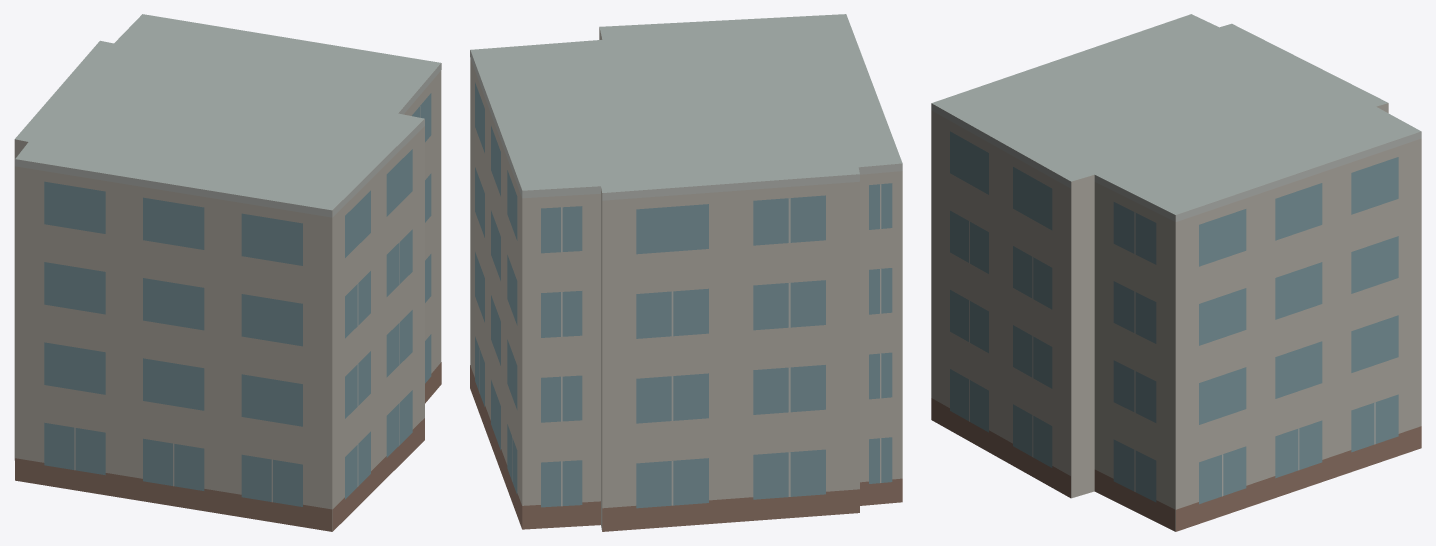
Rendered from survey-upis-32860590.glb.
3 views of the same model, side by side, from view 1: azimuth 30°, elevation 25°; view 2: azimuth 150°, elevation 25°; view 3: azimuth 270°, elevation 25° (orthographic). The views are drawn at different scales.
Parts seen in each view (by area): view 1: survey-upis-32860590.tmp; view 2: survey-upis-32860590.tmp; view 3: survey-upis-32860590.tmp.
Boxes of the visible parts, left/top/right/bottom form: survey-upis-32860590.tmp: left=14, top=14, right=441, bottom=531; survey-upis-32860590.tmp: left=470, top=14, right=902, bottom=531; survey-upis-32860590.tmp: left=931, top=14, right=1421, bottom=531.
Bounding box in the file's own units: 14.85 × 10.9 × 15.29.
